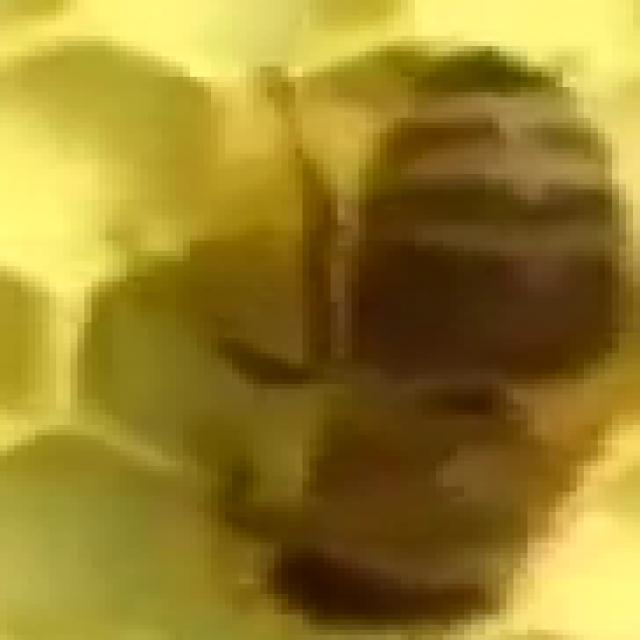honeybee: (221, 25, 628, 618)
